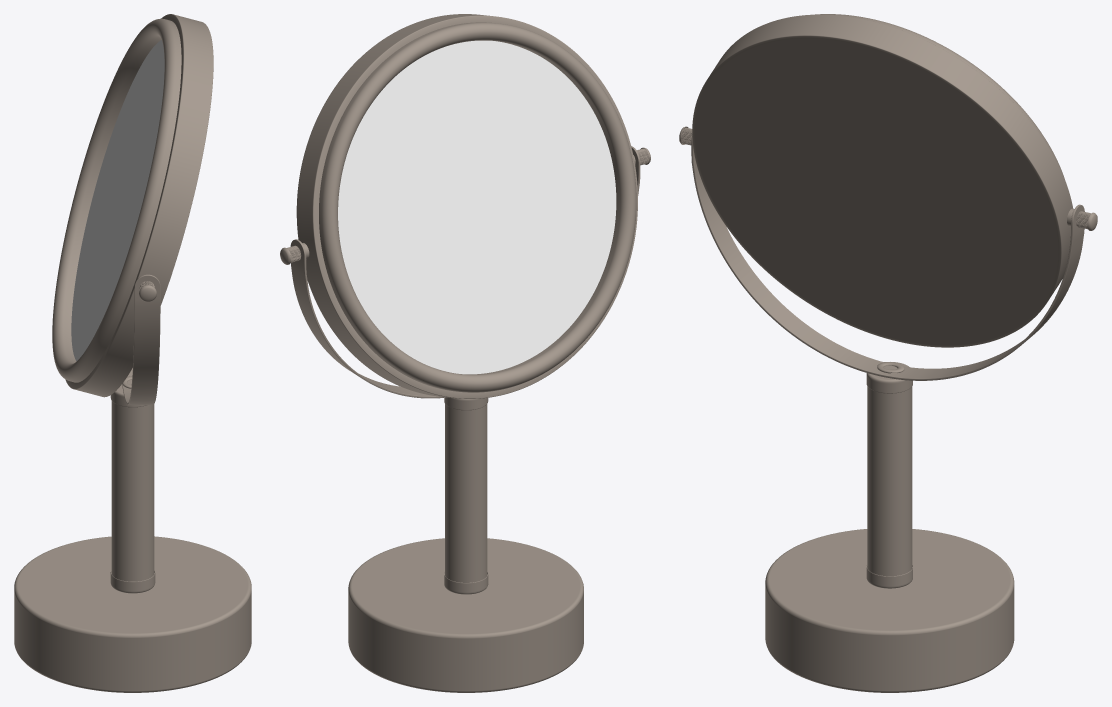
File: Mirror_11.5.fbx
3 renders of one model, left to right at view 1: azimuth 30°, elevation 25°; view 2: azimuth 150°, elevation 25°; view 3: azimuth 270°, elevation 25°, orthographic. The views are drawn at different scales.
Visible parts, largest first — view 1: Arch46_038_3, Arch46_038_4, Arch46_038_5; view 2: Arch46_038_5, Arch46_038_3, Arch46_038_4; view 3: Arch46_038_4, Arch46_038_3.
Boxes of the visible parts, x1=… form: Arch46_038_3: x1=14, y1=274, x2=251, y2=692; Arch46_038_4: x1=52, y1=14, x2=213, y2=397; Arch46_038_5: x1=71, y1=40, x2=164, y2=361; Arch46_038_5: x1=338, y1=40, x2=616, y2=374; Arch46_038_3: x1=280, y1=146, x2=650, y2=692; Arch46_038_4: x1=296, y1=14, x2=637, y2=398; Arch46_038_4: x1=692, y1=14, x2=1072, y2=347; Arch46_038_3: x1=679, y1=126, x2=1097, y2=692.
Size of the model in its own units: 15.83 by 44.89 by 26.57.
